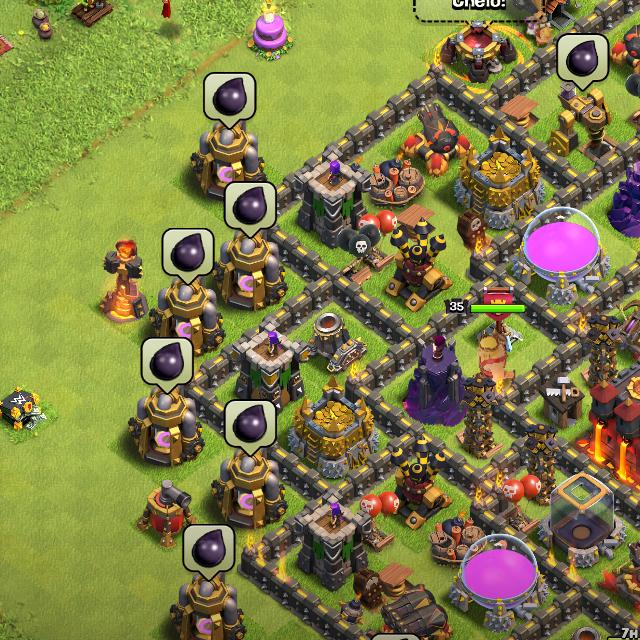ElixirNegro: (140, 337, 195, 395), (182, 522, 236, 581), (204, 70, 256, 130), (163, 228, 214, 286), (558, 33, 608, 91), (226, 182, 275, 240), (226, 400, 275, 458)
